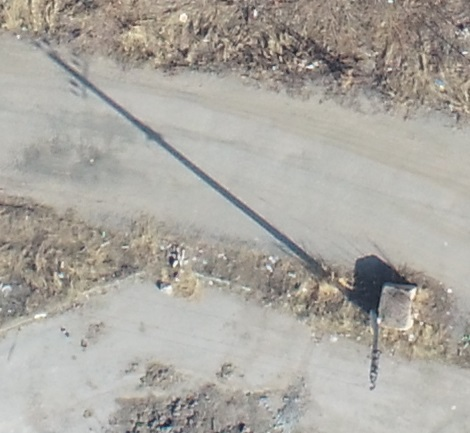opora: (328, 270, 380, 392)
